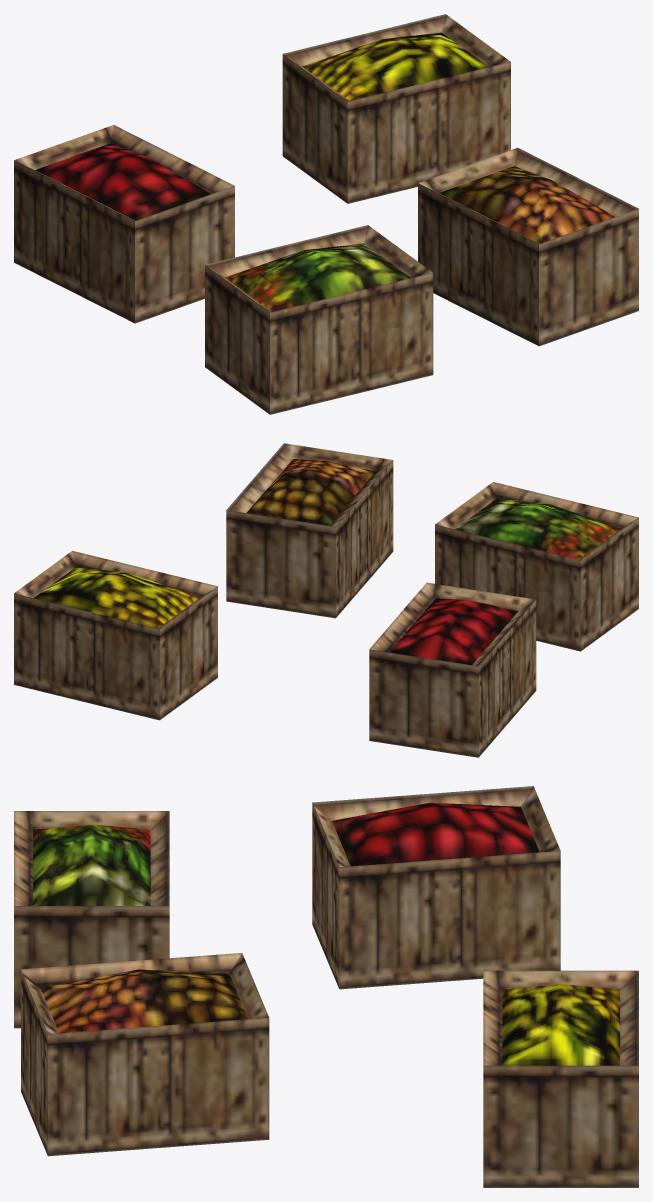
The model's file is puesto.glb.
The picture shows the model from 3 angles, top to bottom: view 1: azimuth 30°, elevation 25°; view 2: azimuth 150°, elevation 25°; view 3: azimuth 270°, elevation 25°; orthographic projection. The views are drawn at different scales.
Visible parts, largest first — view 1: Modelo; view 2: Modelo; view 3: Modelo.
Boxes of the visible parts, x1,y1,x2,y2 form: Modelo: (14, 14, 638, 414); Modelo: (14, 443, 638, 757); Modelo: (14, 786, 638, 1187).
Bounding box in the file's own units: 3.22 × 0.7813 × 3.07.
1 material, 1 textured.
